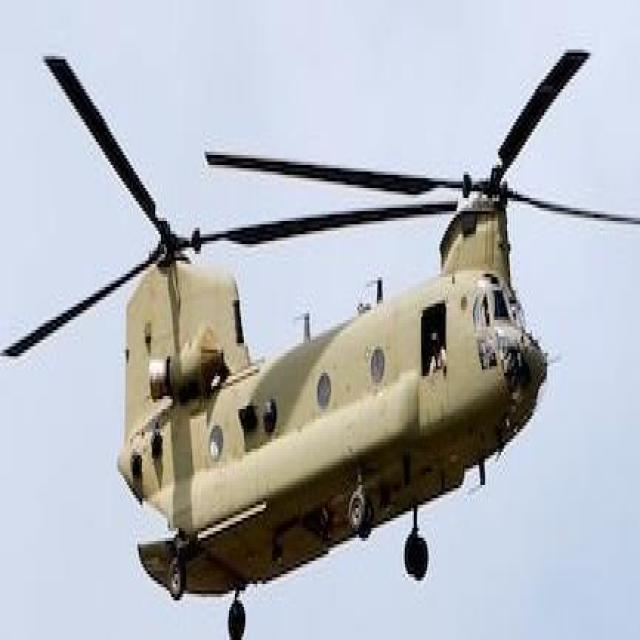Helicopter: (57, 57, 590, 640)
